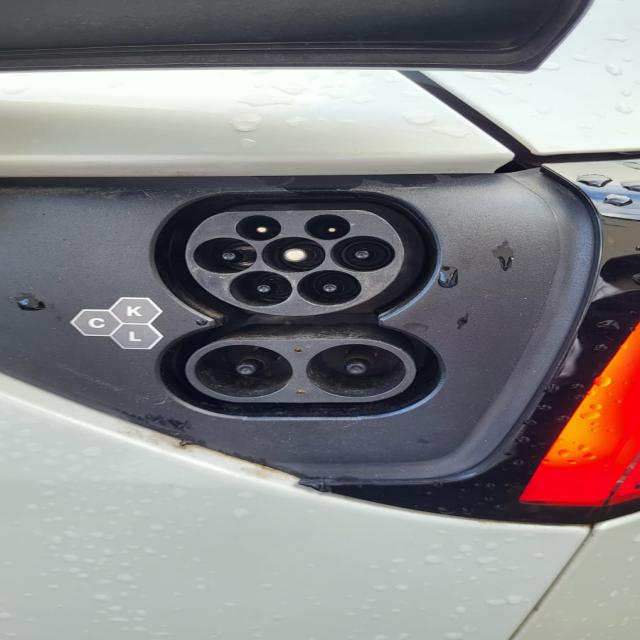inlet: (185, 210, 403, 316)
inlet-above-left: (236, 215, 282, 241)
inlet-above-right: (304, 214, 350, 240)
inlet-below-left: (229, 271, 292, 307)
inlet-below-right: (296, 270, 362, 307)
inlet-circle: (261, 236, 326, 273)
inlet-circle-left: (193, 237, 257, 274)
inlet-circle-right: (330, 235, 395, 272)
inlet-minus: (306, 344, 406, 398)
inlet-plus: (194, 345, 293, 397)
